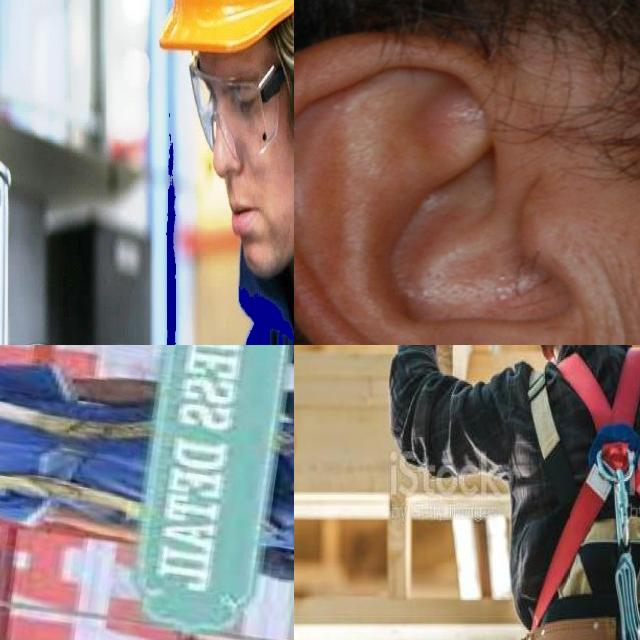Harness: (533, 350, 640, 640), (0, 381, 160, 515)
No_Ear-Protection: (294, 26, 640, 345)
